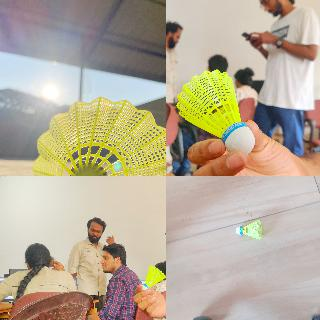shuttlecock: (34, 95, 165, 175), (175, 68, 255, 154), (140, 264, 166, 290), (234, 221, 264, 241)
